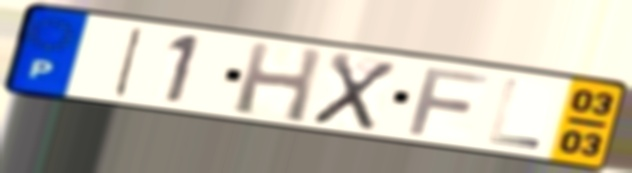1: (161, 33, 207, 106)
F: (404, 63, 493, 138)
H: (230, 39, 327, 126)
I: (109, 25, 149, 100)
L: (485, 76, 545, 152)
X: (307, 49, 401, 134)
